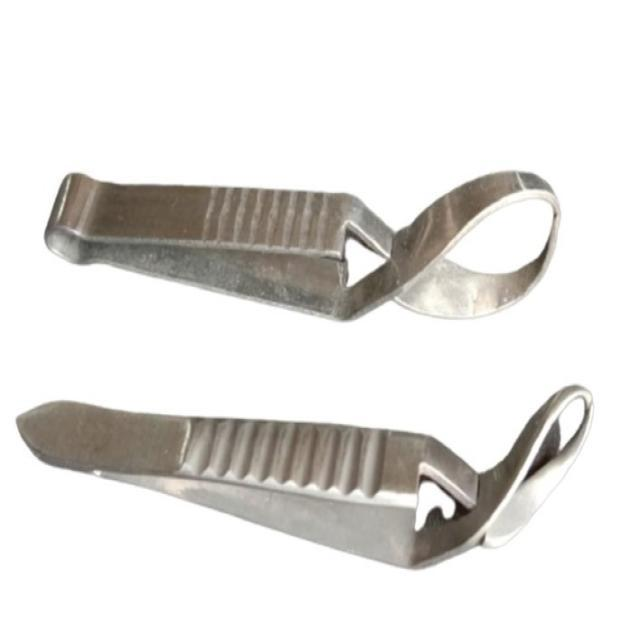Jones Towel Clamp: (10, 387, 608, 572)
